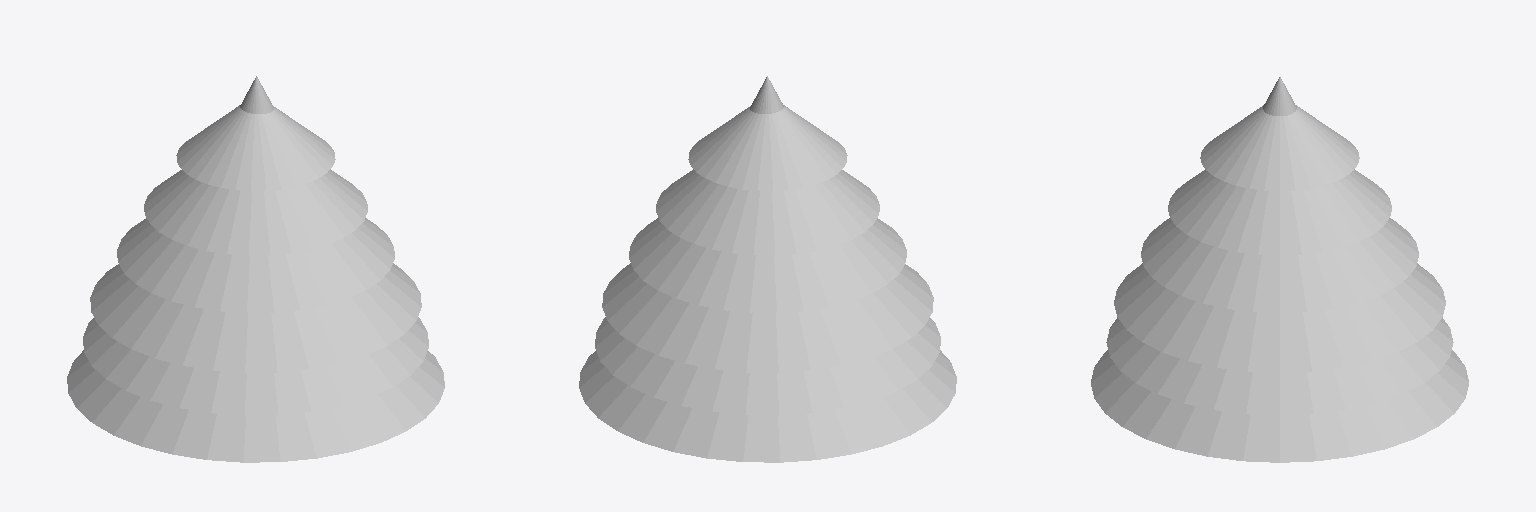
The model's file is Tree1.obj.
3 renders of one model, left to right at view 1: azimuth 30°, elevation 25°; view 2: azimuth 150°, elevation 25°; view 3: azimuth 270°, elevation 25°, orthographic.
Parts seen in each view (by area): view 1: Cone_Cone.001; view 2: Cone_Cone.001; view 3: Cone_Cone.001.
Part boxes in pixels (x1,y1,x2,y2): Cone_Cone.001: (67,76,444,462); Cone_Cone.001: (579,76,956,462); Cone_Cone.001: (1091,77,1468,462).
Size of the model in its own units: 13.01 by 13.66 by 13.01.